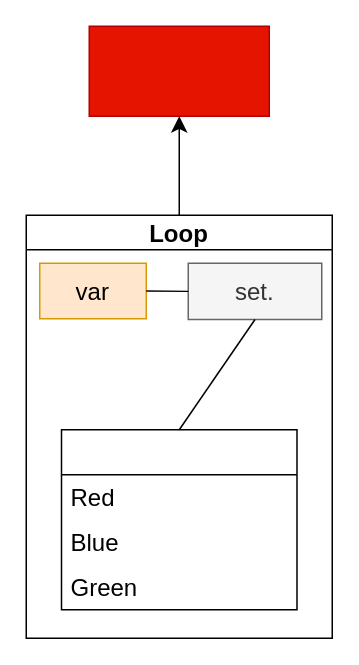
Image size: 359x665. Some labels were removed from this diagram. The shapes that lost their labels are listed below. From the top down, each one's box as (x1, y1, x2, y2) in pixels, then its label:
(88, 25, 269, 116): Start
(60, 428, 297, 610): List
